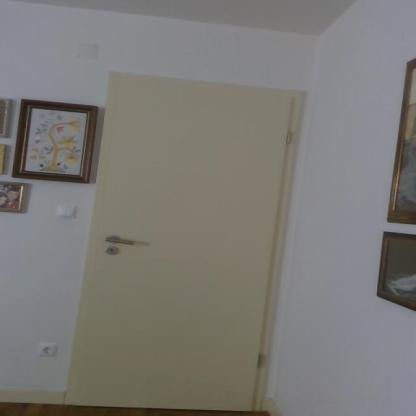door: (60, 71, 311, 415)
